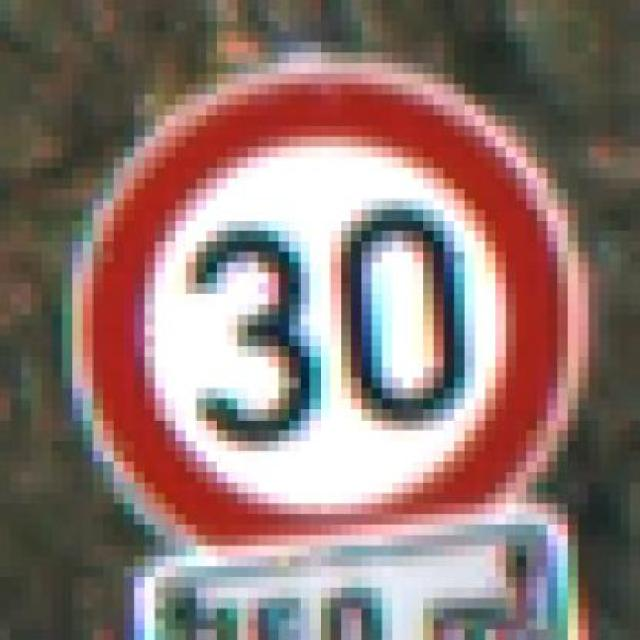Speed Limit 30 KMPh: (41, 42, 630, 567)
